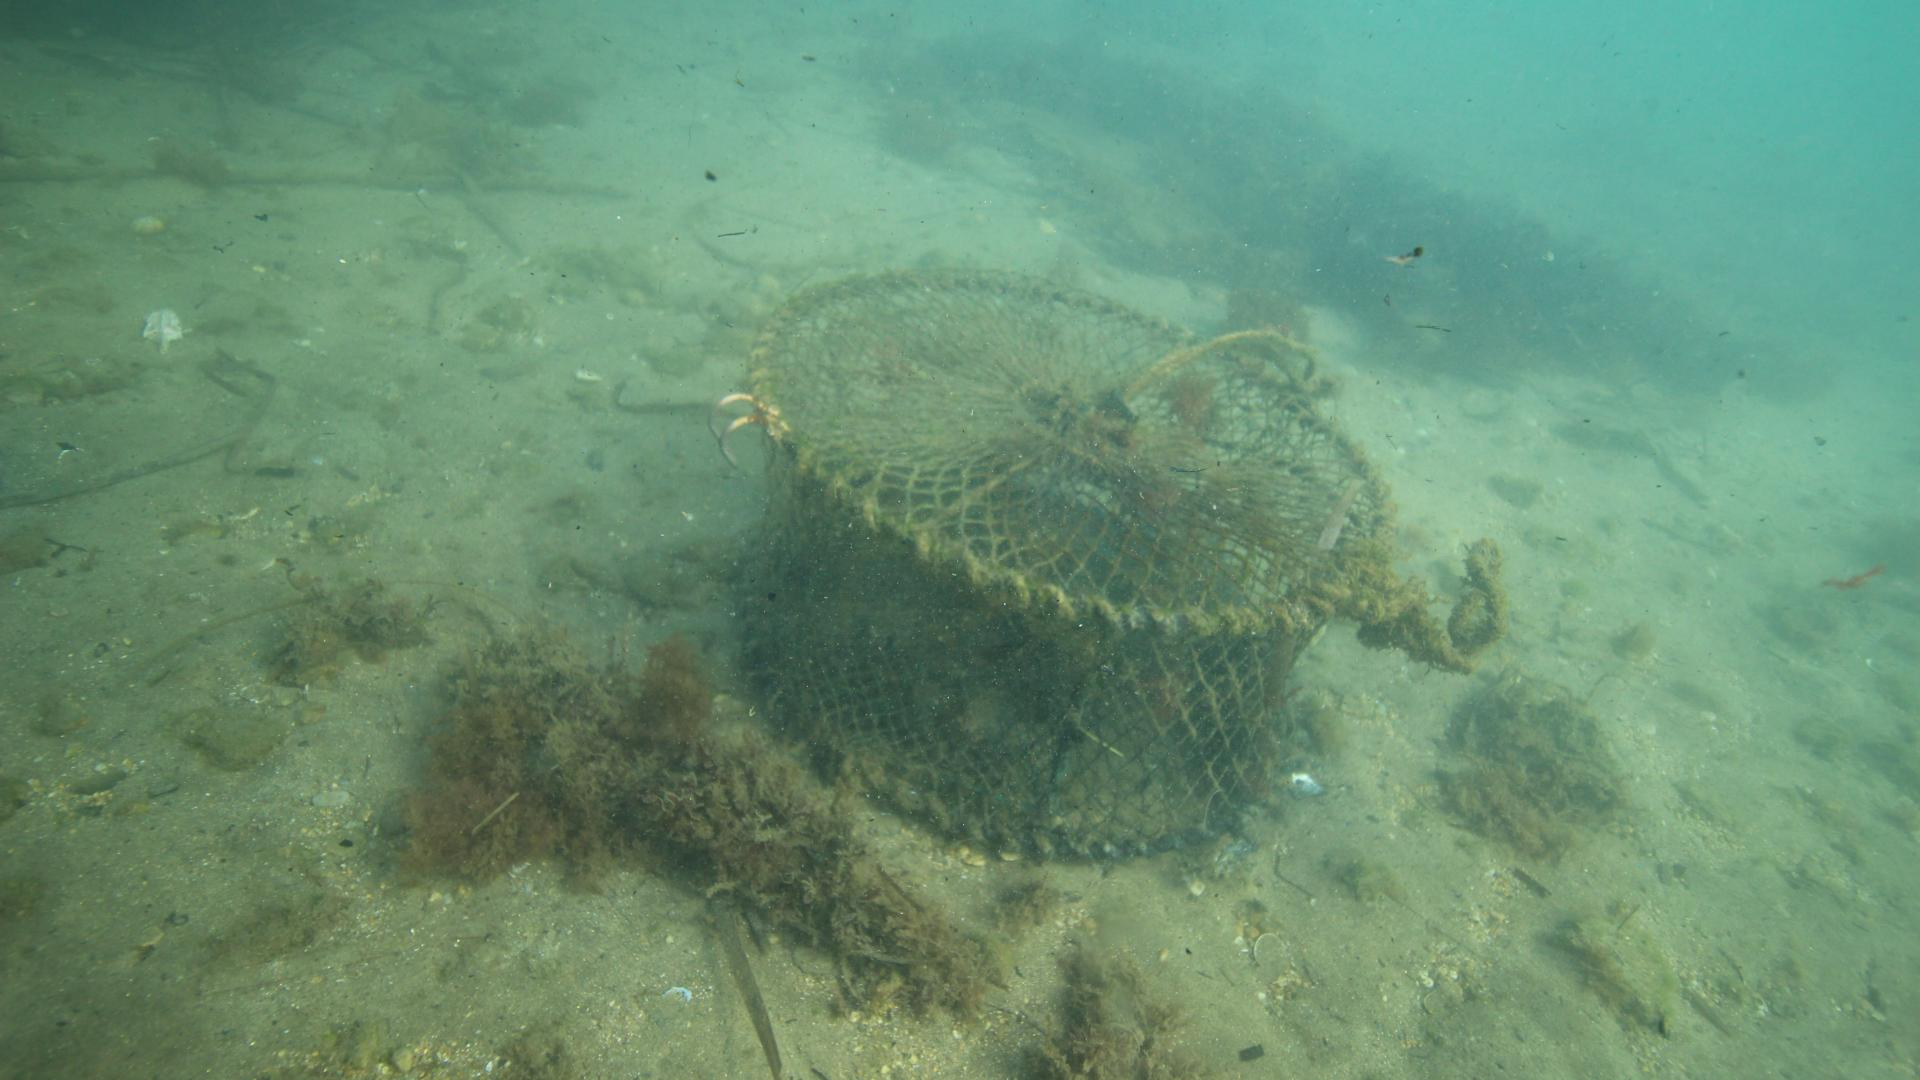circular fish trap: (742, 272, 1402, 865)
